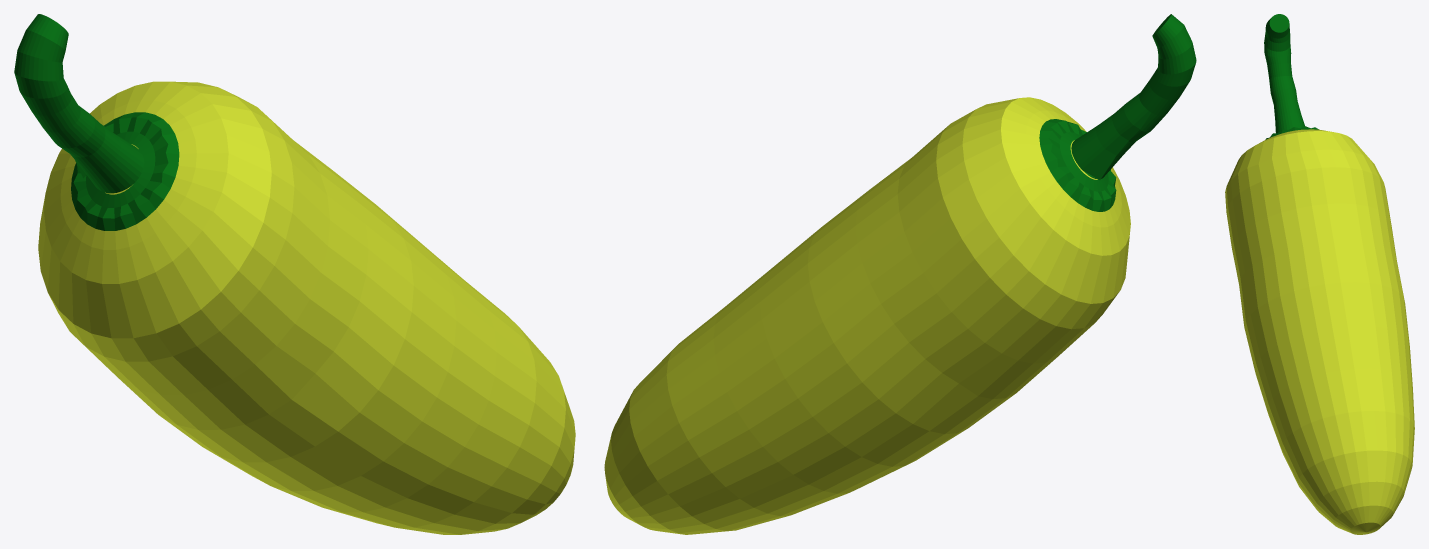
The model's file is chile_amarillo.fbx.
3 views of the same model, side by side, from view 1: azimuth 30°, elevation 25°; view 2: azimuth 150°, elevation 25°; view 3: azimuth 270°, elevation 25° (orthographic). The views are drawn at different scales.
Visible parts, largest first — view 1: Chile_Amarillo; view 2: Chile_Amarillo; view 3: Chile_Amarillo.
Part boxes in pixels (box(x1,y1,x2,y2)): Chile_Amarillo: box(14, 14, 575, 534); Chile_Amarillo: box(604, 14, 1196, 534); Chile_Amarillo: box(1225, 14, 1414, 534).
Size of the model in its own units: 278 by 293 by 135.
